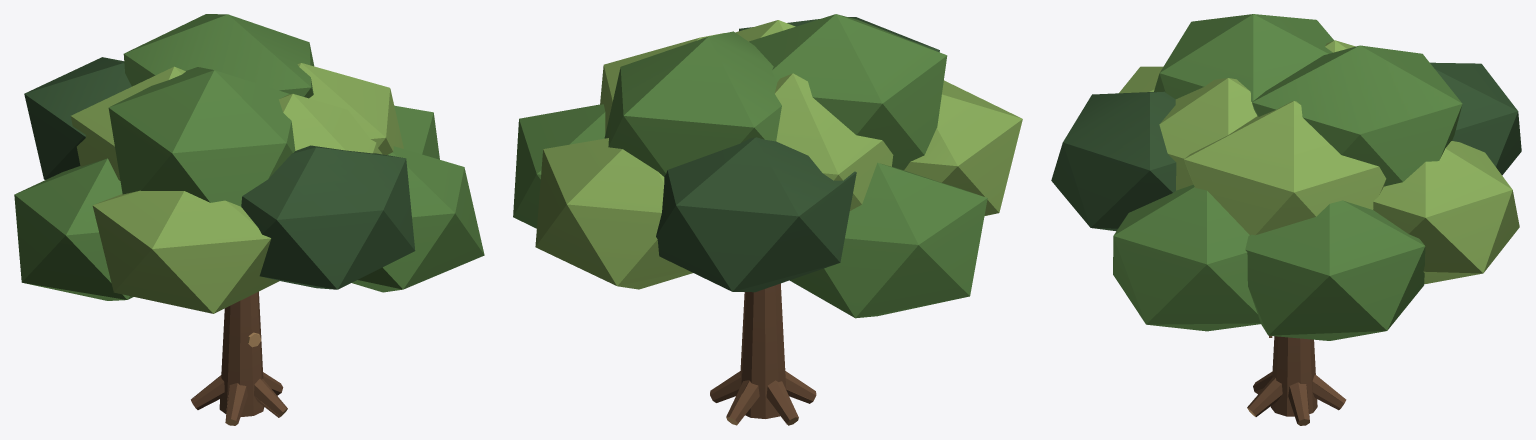
The model's file is tree_c.glb.
3 renders of one model, left to right at view 1: azimuth 30°, elevation 25°; view 2: azimuth 150°, elevation 25°; view 3: azimuth 270°, elevation 25°, orthographic. The views are drawn at different scales.
Visible parts, largest first — view 1: tree_c; view 2: tree_c; view 3: tree_c.
Boxes of the visible parts, left/top/right/bottom form: tree_c: left=14, top=14, right=484, bottom=425; tree_c: left=513, top=14, right=1022, bottom=425; tree_c: left=1051, top=14, right=1521, bottom=425.
Bounding box in the file's own units: 8.3 × 6.97 × 8.01.
